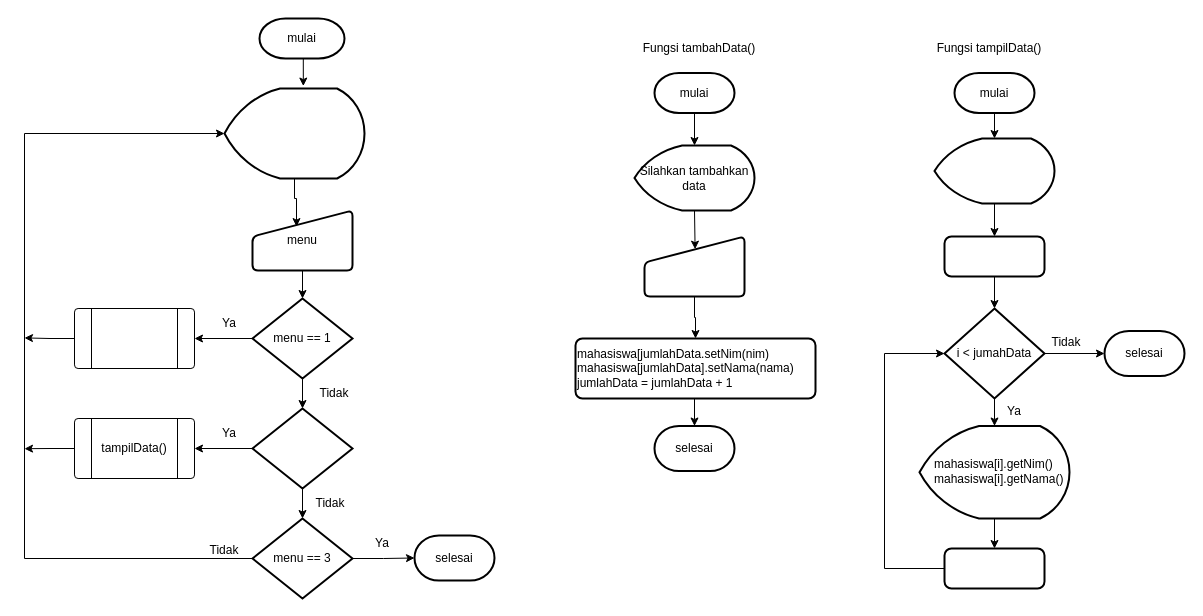
Some shapes in this 1203 by 616 pixel diagram are drawn without their labels. Each missing label, with the centre of its shape:
Berikut data Anda: (x=994, y=170)
i = 0: (x=994, y=256)
i = i + 1: (x=994, y=568)
menu == 2: (x=302, y=448)
Menu Siakad 1. Tambah Data 2. Lihat Data 3. Keluar Pilih menu:: (x=294, y=133)
nim, nama: (x=694, y=266)
tambahData(): (x=134, y=338)
